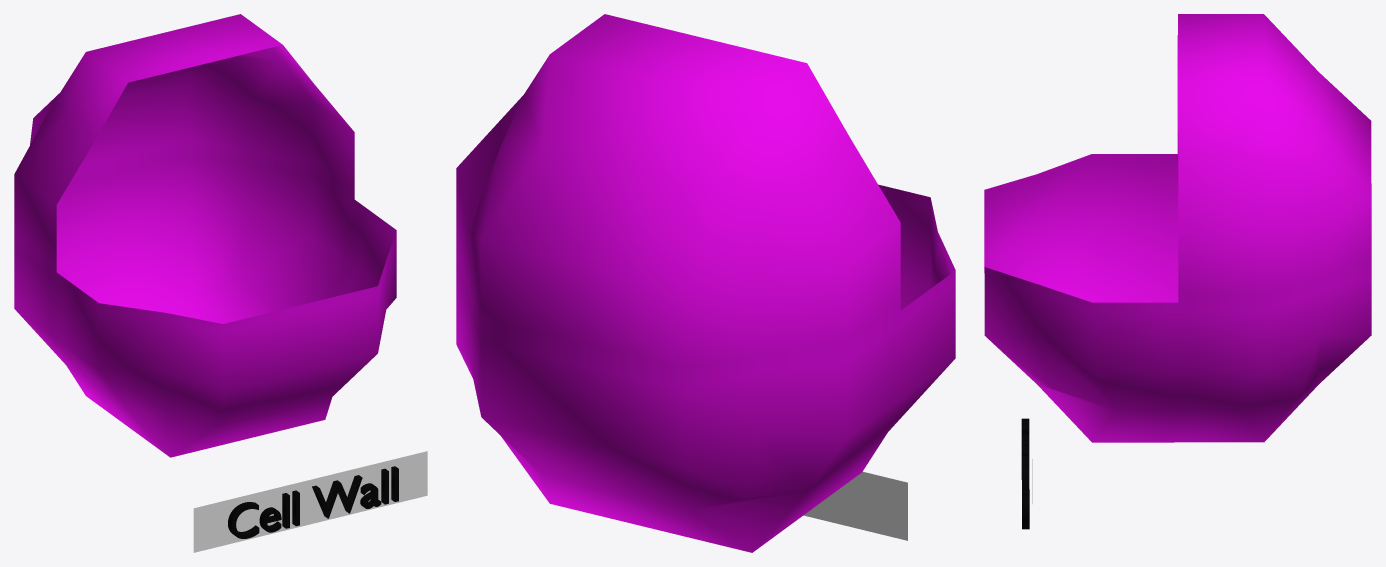
File: cellwall.gltf
3 views of the same model, side by side, from view 1: azimuth 30°, elevation 25°; view 2: azimuth 150°, elevation 25°; view 3: azimuth 270°, elevation 25° (orthographic). The views are drawn at different scales.
Visible parts, largest first — view 1: Outside, Plane.007, Text.007; view 2: Outside, Plane.007; view 3: Outside, Text.007.
Boxes of the visible parts, left/top/right/bottom form: Outside: left=14, top=14, right=396, bottom=457; Plane.007: left=193, top=451, right=427, bottom=552; Text.007: left=228, top=466, right=398, bottom=538; Outside: left=456, top=14, right=955, bottom=552; Plane.007: left=803, top=471, right=907, bottom=540; Outside: left=984, top=14, right=1371, bottom=442; Text.007: left=1021, top=418, right=1029, bottom=529.
Size of the model in its own units: 1.09 by 1.45 by 1.2.
